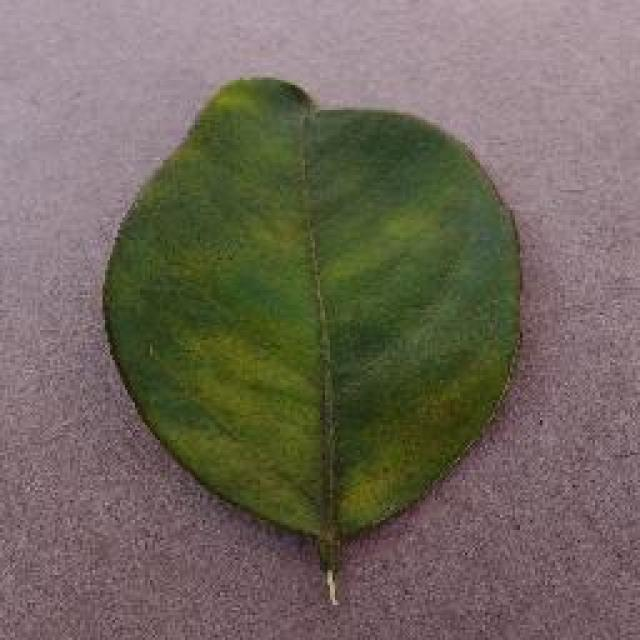Orange_Haunglongbing_Citrus_greening: (130, 124, 481, 505)
